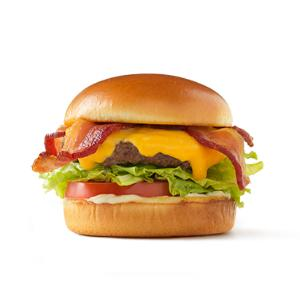cheeseburger: (31, 63, 264, 246)
